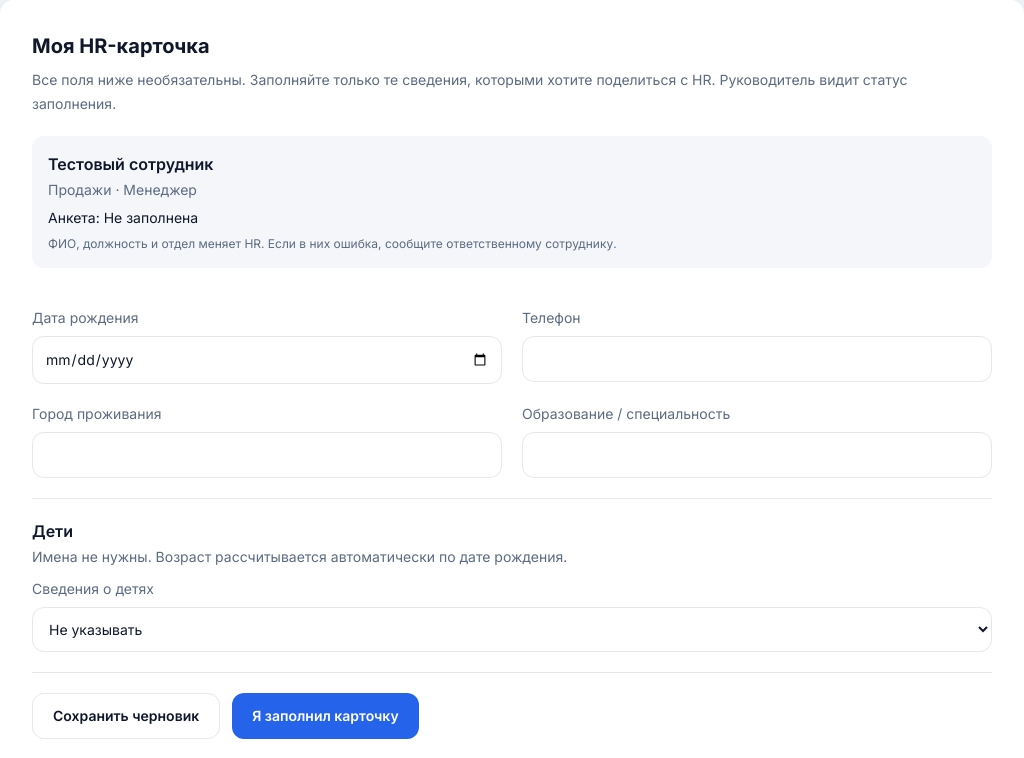
Test: EmployeeProfileForm › saves optional fields without sending employee identity or work roles
Expected: the text "Тестовый сотрудник" is shown, [48,154,214,174]
In the field labelled "Город проживания": (267, 455) [32,432,502,478], type "Минск"
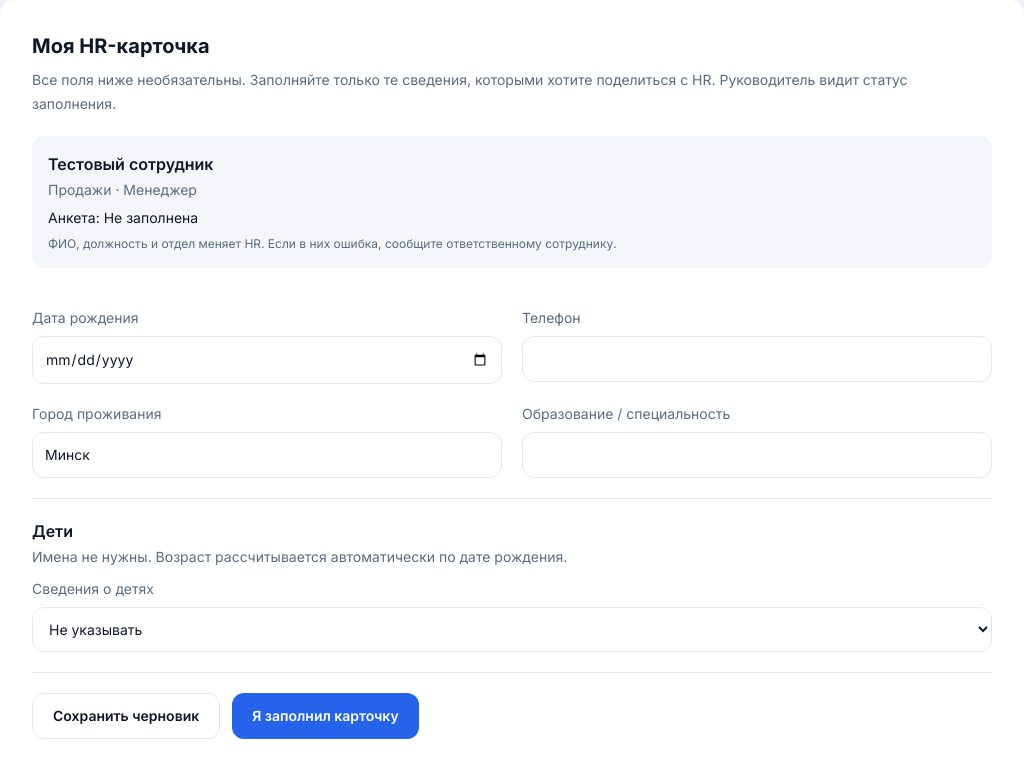
Click the button "Я заполнил карточку": (325, 716) [232,693,419,739]
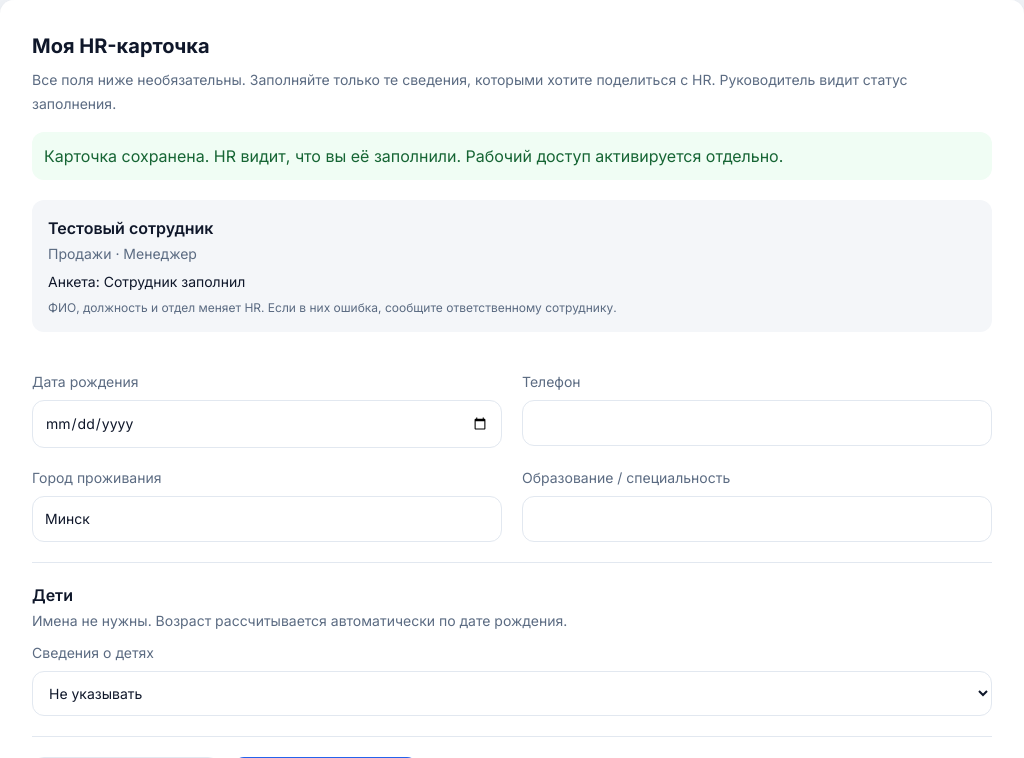
Expected: the text "Карточка сохранена" is shown, [44,146,783,166]
